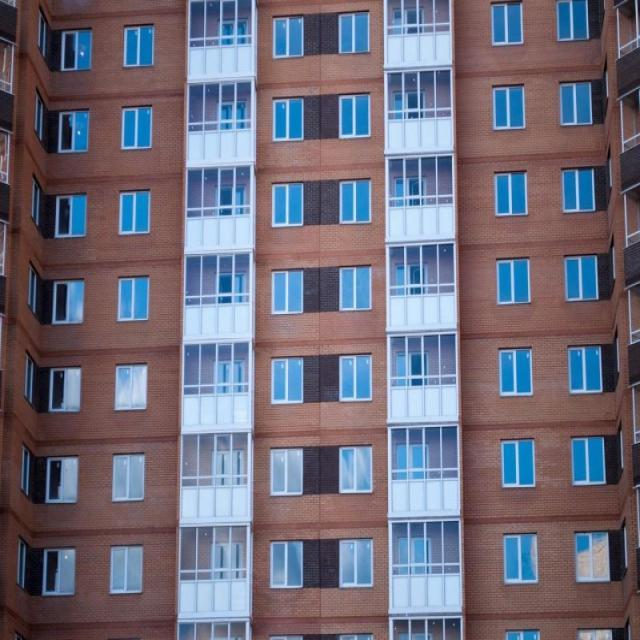Window: (270, 541, 302, 586), (342, 356, 372, 403), (504, 535, 536, 579), (570, 441, 604, 482), (570, 347, 600, 392), (492, 6, 526, 44), (502, 448, 536, 486), (338, 13, 371, 52), (112, 551, 144, 591), (340, 270, 372, 310), (578, 538, 610, 578), (56, 193, 85, 236), (564, 171, 594, 212), (564, 258, 596, 296), (560, 84, 591, 123), (272, 452, 302, 492), (340, 544, 370, 584), (501, 352, 532, 390), (119, 280, 148, 320), (497, 264, 529, 300), (51, 461, 79, 502), (340, 96, 370, 134), (558, 5, 592, 38), (115, 458, 143, 498), (341, 451, 372, 486), (218, 273, 248, 309), (497, 177, 527, 213), (118, 370, 144, 410), (46, 552, 72, 592), (274, 272, 300, 312), (274, 188, 302, 225), (273, 361, 301, 398), (342, 186, 369, 224), (496, 90, 523, 128), (272, 22, 302, 56), (274, 101, 302, 137), (52, 372, 78, 410), (59, 114, 88, 148), (214, 364, 243, 398), (396, 356, 426, 388), (125, 112, 151, 147), (396, 95, 426, 125), (121, 200, 149, 232), (64, 34, 90, 68), (126, 30, 152, 64), (215, 456, 242, 488), (401, 542, 428, 574), (57, 288, 82, 322), (214, 545, 239, 579), (394, 449, 424, 476), (218, 184, 242, 217), (393, 12, 426, 36), (220, 101, 243, 134), (396, 266, 425, 292), (398, 180, 424, 204), (221, 28, 246, 50), (32, 182, 41, 222), (25, 358, 33, 400), (38, 13, 46, 54), (29, 267, 36, 307), (23, 447, 29, 488), (20, 541, 25, 586), (38, 99, 42, 140)
